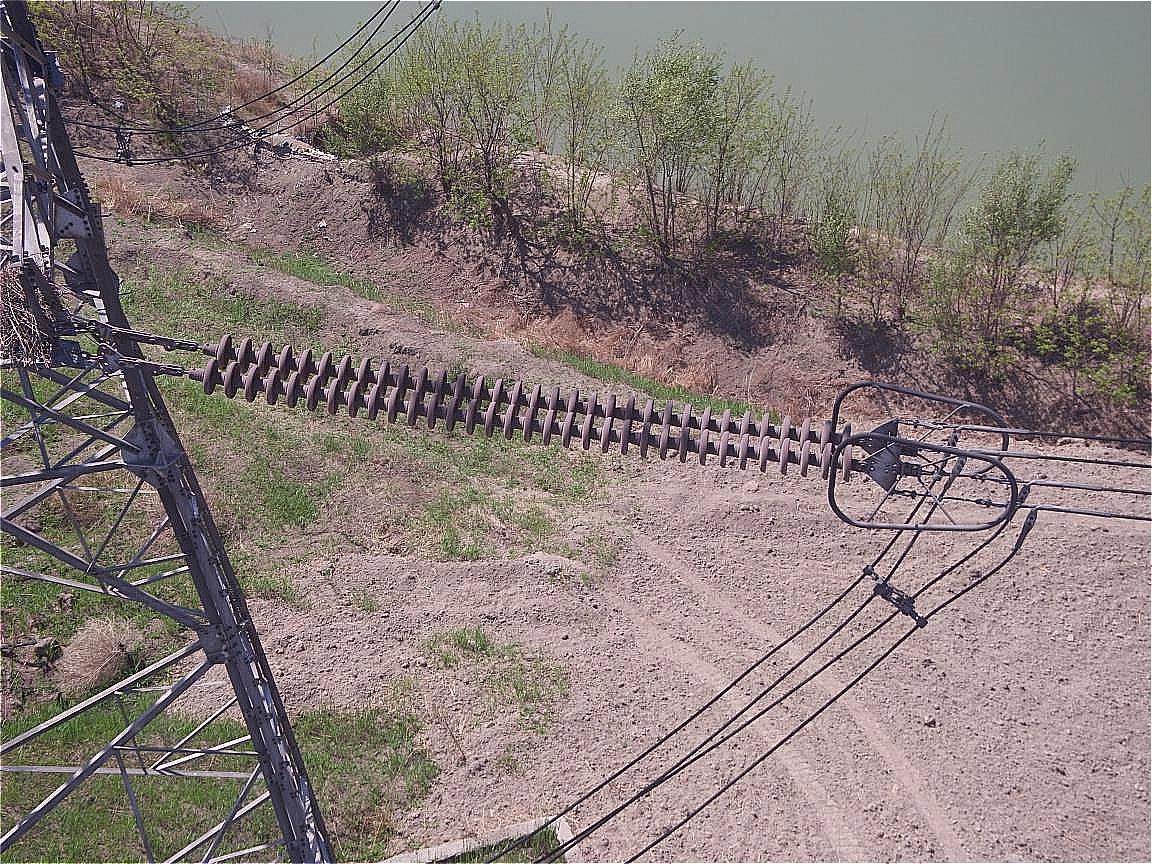insultor1: (199, 333, 855, 485)
